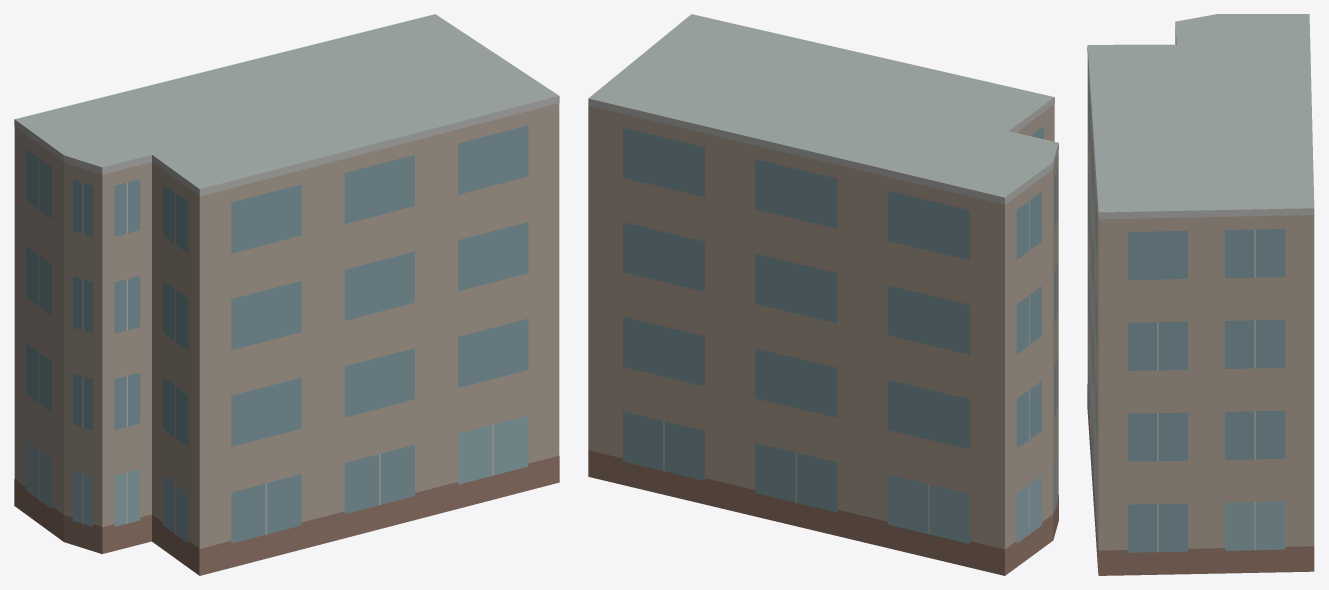
Rendered from survey-upis-32744235.glb.
3 renders of one model, left to right at view 1: azimuth 30°, elevation 25°; view 2: azimuth 150°, elevation 25°; view 3: azimuth 270°, elevation 25°, orthographic. The views are drawn at different scales.
Parts seen in each view (by area): view 1: survey-upis-32744235.tmp; view 2: survey-upis-32744235.tmp; view 3: survey-upis-32744235.tmp.
Boxes of the visible parts, x1,y1,x2,y2 form: survey-upis-32744235.tmp: (14, 14, 559, 575); survey-upis-32744235.tmp: (588, 14, 1058, 575); survey-upis-32744235.tmp: (1087, 14, 1314, 575).
Bounding box in the file's own units: 15.3 × 13.05 × 7.39.
